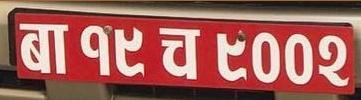0: (250, 30, 284, 84), (283, 32, 315, 86)
1: (75, 22, 113, 79)
2: (315, 32, 351, 88)
9: (112, 25, 151, 79), (214, 27, 250, 84)
ba: (16, 18, 71, 77)
cha: (155, 24, 203, 82)
